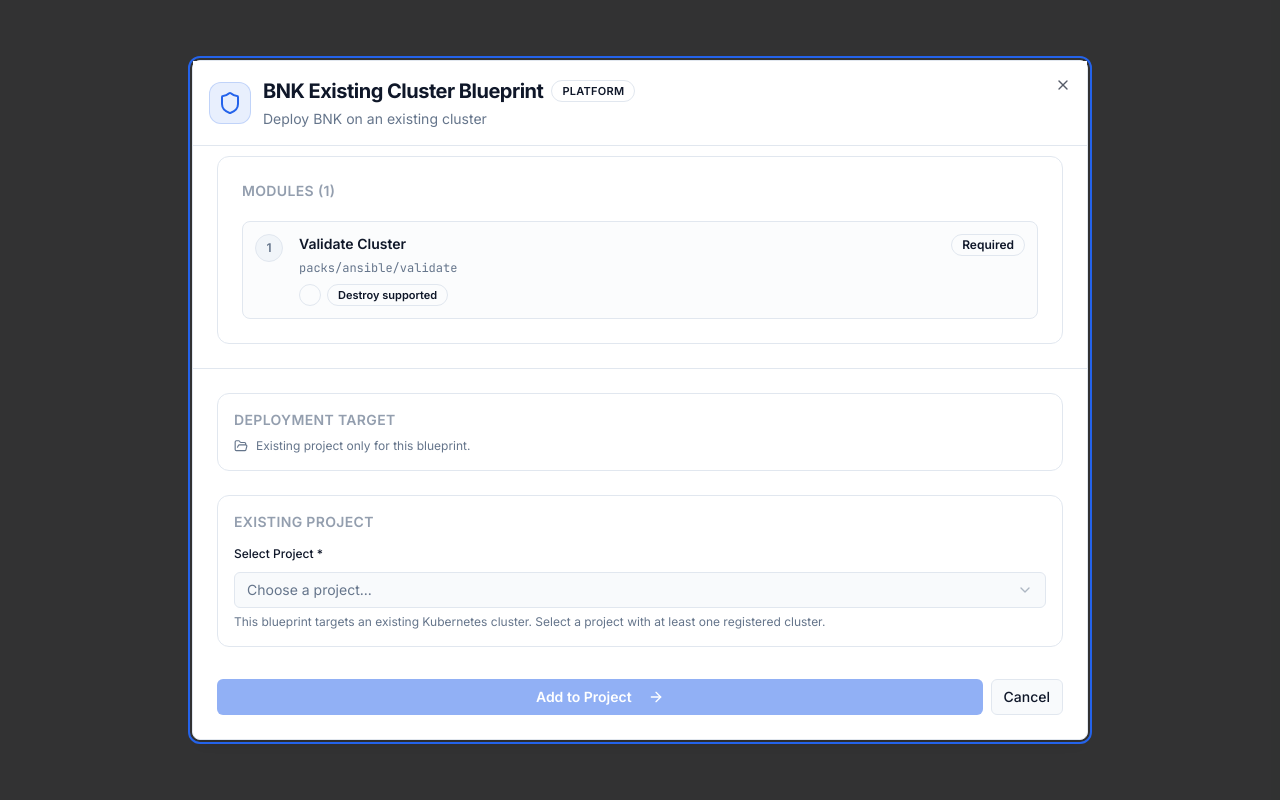
Test: StackDetailDialog existing project selection › shows and allows selecting a project with cluster_count > 0 even when deployed_count is 0
(page scrolled)
Click the dropdown at x=309, y=589, box top-left (234, 572), bottom-right (1046, 608)
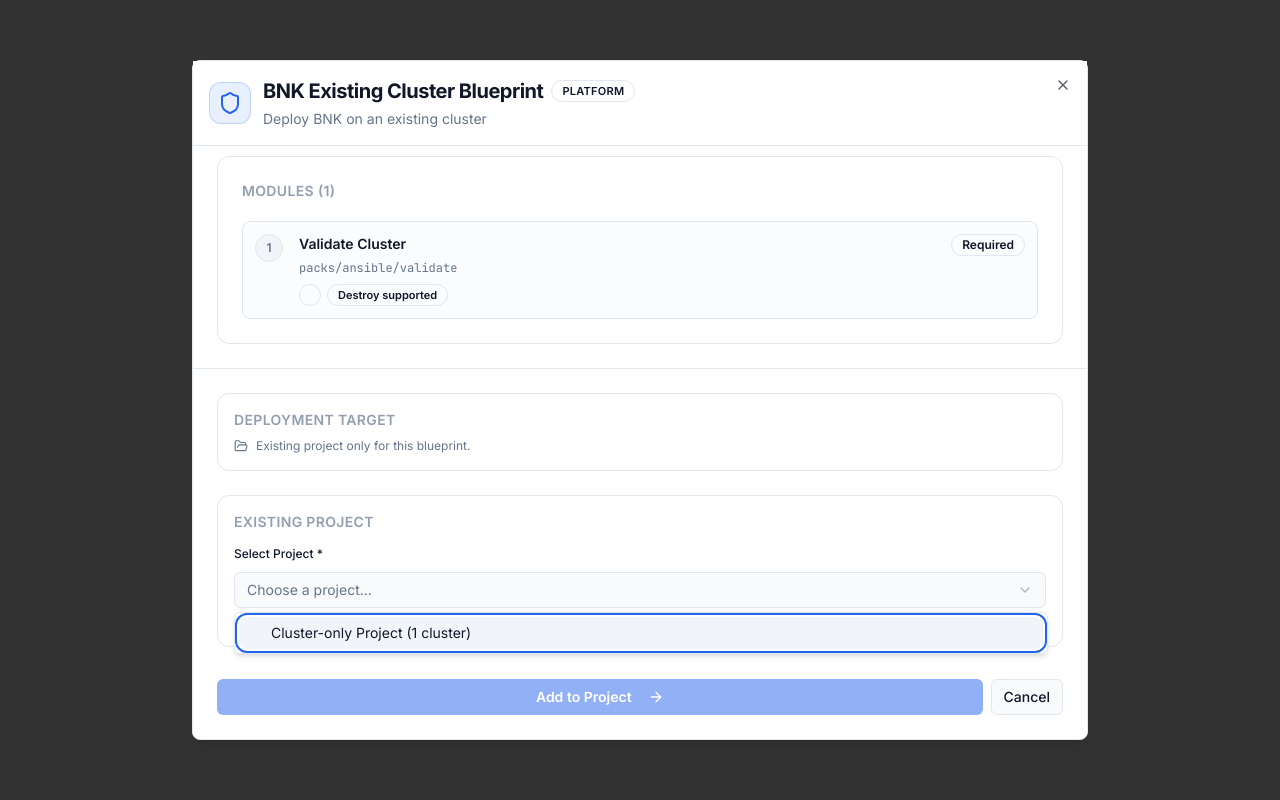
Click the option "Cluster-only Project (1 cluster)" at x=337, y=632, box top-left (239, 617), bottom-right (1043, 649)
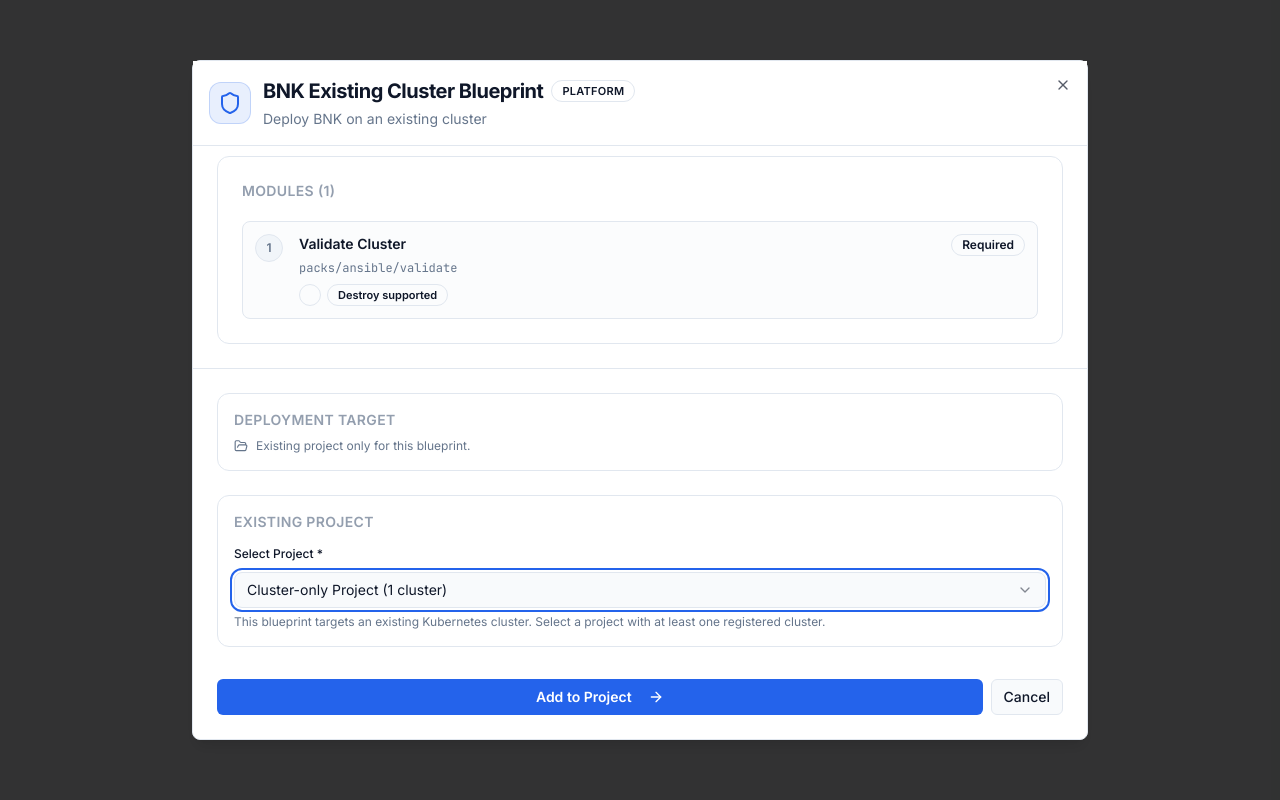
Now the text "Cluster-only Project (1 cluster)" is shown, box top-left (247, 580), bottom-right (447, 600)
